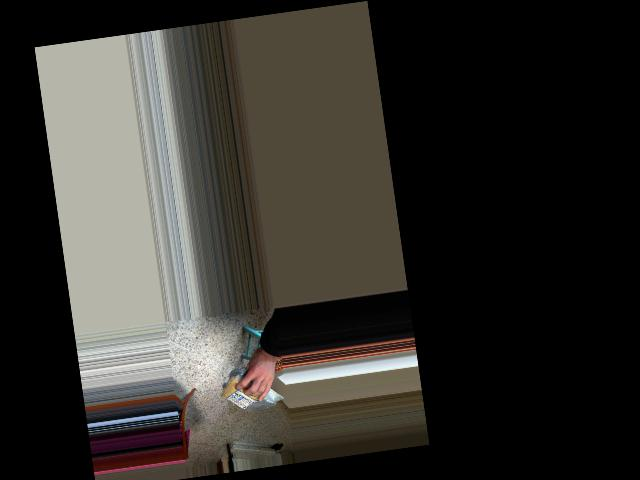cheese: (212, 374, 284, 413)
